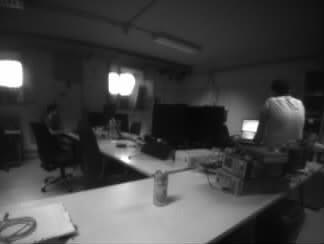Tin can: (153, 170, 166, 206)
